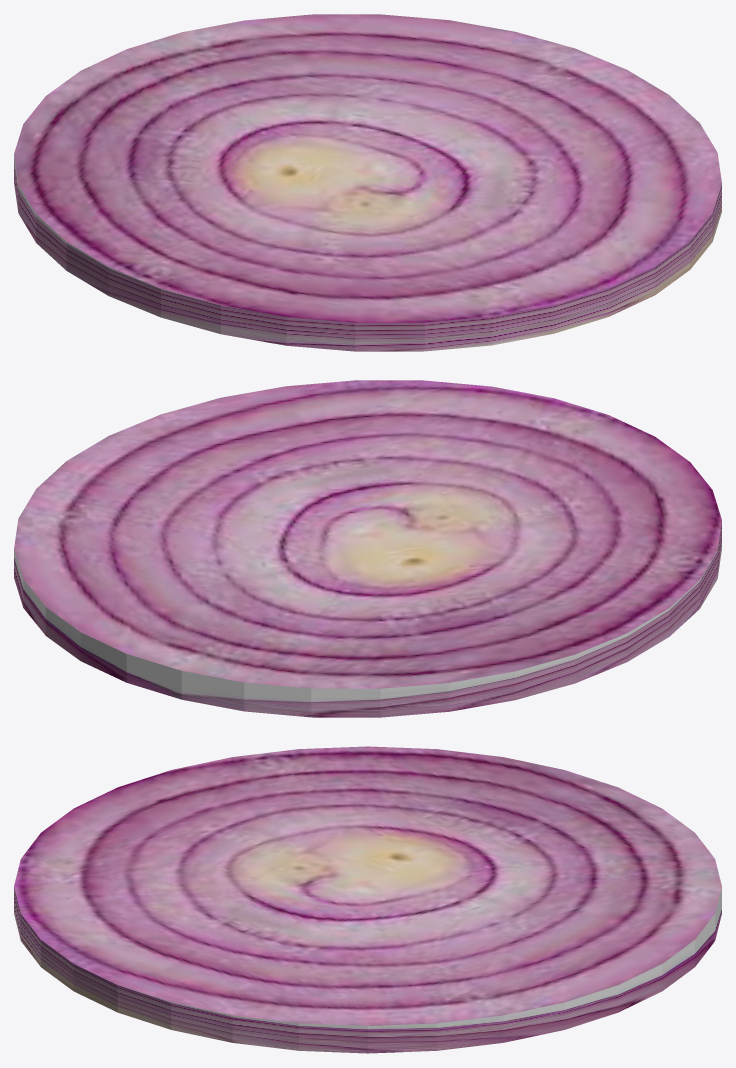
File: onion.glb
3 renders of one model, top to bottom at view 1: azimuth 30°, elevation 25°; view 2: azimuth 150°, elevation 25°; view 3: azimuth 270°, elevation 25°, orthographic. The views are drawn at different scales.
Visible parts, largest first — view 1: Cylinder; view 2: Cylinder; view 3: Cylinder.
Part boxes in pixels (bbox=[...]): Cylinder: bbox=[14, 14, 721, 351]; Cylinder: bbox=[14, 380, 721, 717]; Cylinder: bbox=[14, 746, 721, 1053].
Bounding box in the file's own units: 3.47 × 0.159 × 3.71.
Materials: 1 (1 with a texture image).
